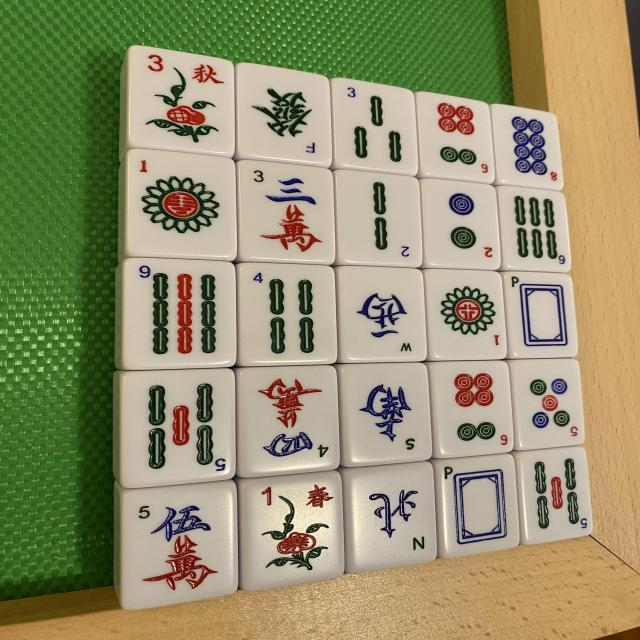bs1: (253, 486, 339, 578)
bs3: (126, 52, 235, 158)
hdg: (238, 65, 330, 158)
hdw: (434, 460, 518, 562), (506, 270, 580, 360)
hwn: (358, 476, 429, 557)
hws: (352, 372, 422, 455)
hww: (341, 265, 428, 359)
sb2: (334, 170, 419, 270)
sb3: (339, 84, 421, 178)
sb4: (238, 266, 335, 368)
sb5: (122, 368, 237, 486), (519, 447, 593, 546)
sb6: (500, 188, 568, 272)
sb9: (126, 256, 237, 368)
sc3: (241, 165, 330, 258)
sc4: (238, 367, 340, 479)
sc5: (119, 486, 235, 613)
sd1: (125, 145, 236, 258), (424, 270, 502, 362)
sd2: (422, 181, 499, 265)
sd5: (514, 368, 580, 439)
sd6: (442, 370, 512, 448), (428, 98, 492, 176)
sd8: (494, 105, 560, 188)
